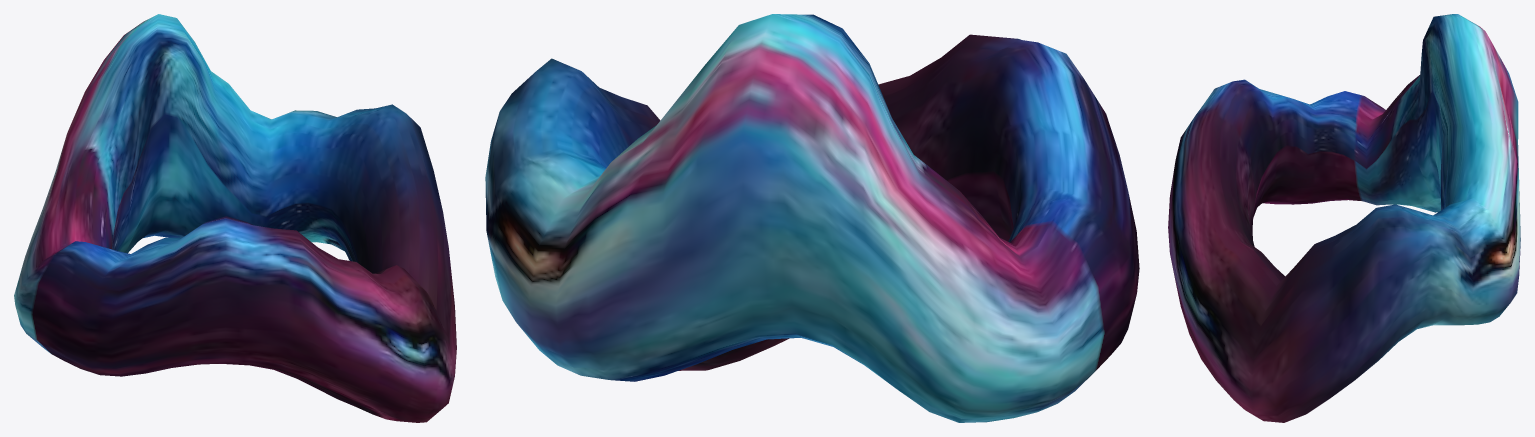
The model's file is wolf-thing.gltf.
The picture shows the model from 3 angles, left to right: view 1: azimuth 30°, elevation 25°; view 2: azimuth 150°, elevation 25°; view 3: azimuth 270°, elevation 25°; orthographic projection. The views are drawn at different scales.
Visible parts, largest first — view 1: Torus; view 2: Torus; view 3: Torus.
Part boxes in pixels (box(x1,y1,x2,y2)): Torus: box(14, 14, 456, 422); Torus: box(485, 14, 1139, 422); Torus: box(1168, 14, 1520, 422).
Size of the model in its own units: 2.5 by 2.15 by 2.09.
Materials: 1 (1 with a texture image).
